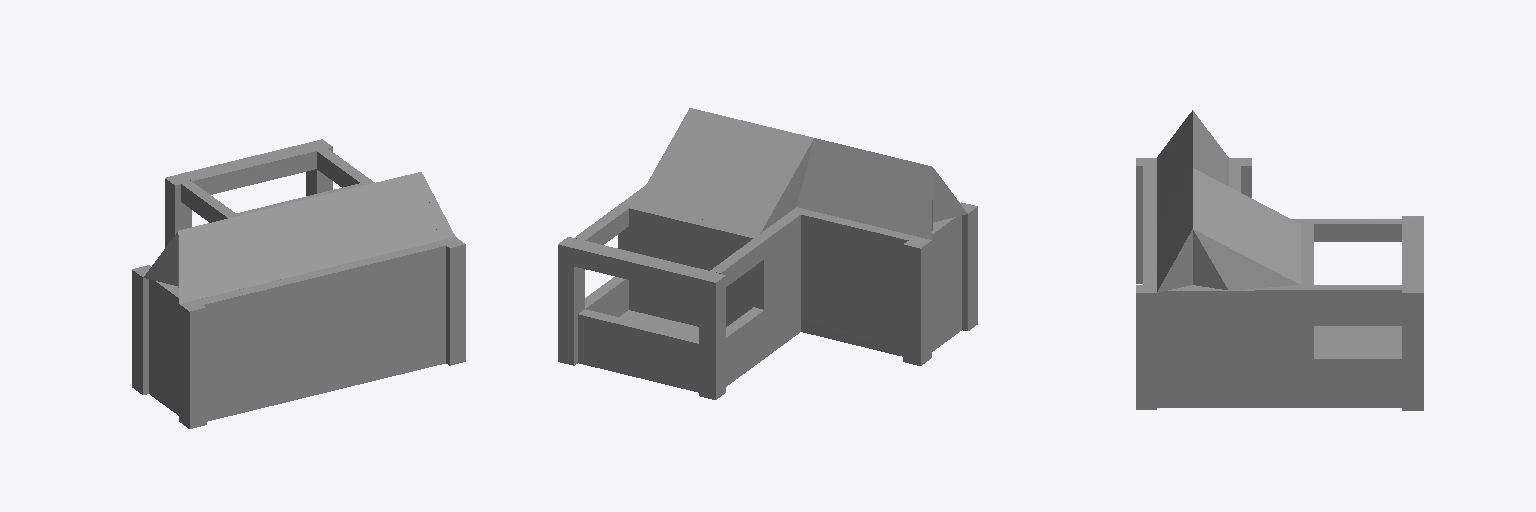
File: house3.obj
3 views of the same model, side by side, from view 1: azimuth 30°, elevation 25°; view 2: azimuth 150°, elevation 25°; view 3: azimuth 270°, elevation 25° (orthographic).
Visible parts, largest first — view 1: Cube_Cube; view 2: Cube_Cube; view 3: Cube_Cube.
Part boxes in pixels (bbox=[...]): Cube_Cube: bbox=[132, 139, 465, 428]; Cube_Cube: bbox=[558, 108, 977, 399]; Cube_Cube: bbox=[1136, 110, 1423, 410].
Bounding box in the file's own units: 179 × 107 × 161.